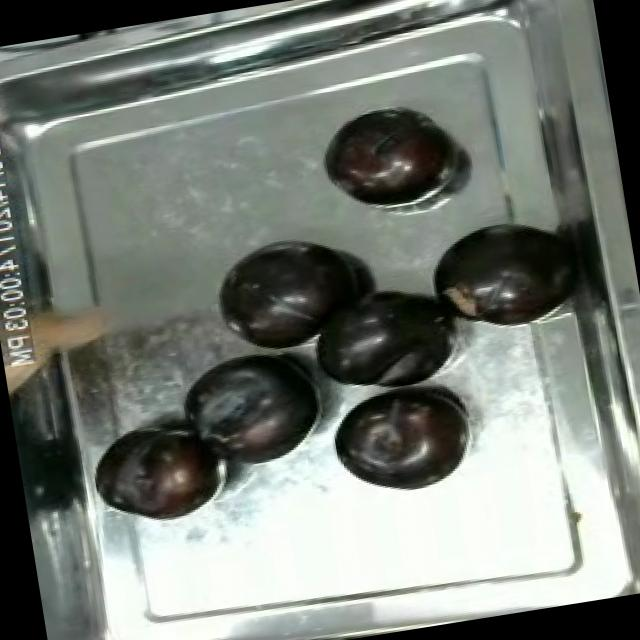Fruit: (170, 338, 340, 478), (296, 271, 468, 404), (206, 230, 374, 364), (414, 209, 579, 345), (320, 378, 482, 506), (313, 96, 462, 220), (87, 414, 231, 536)
